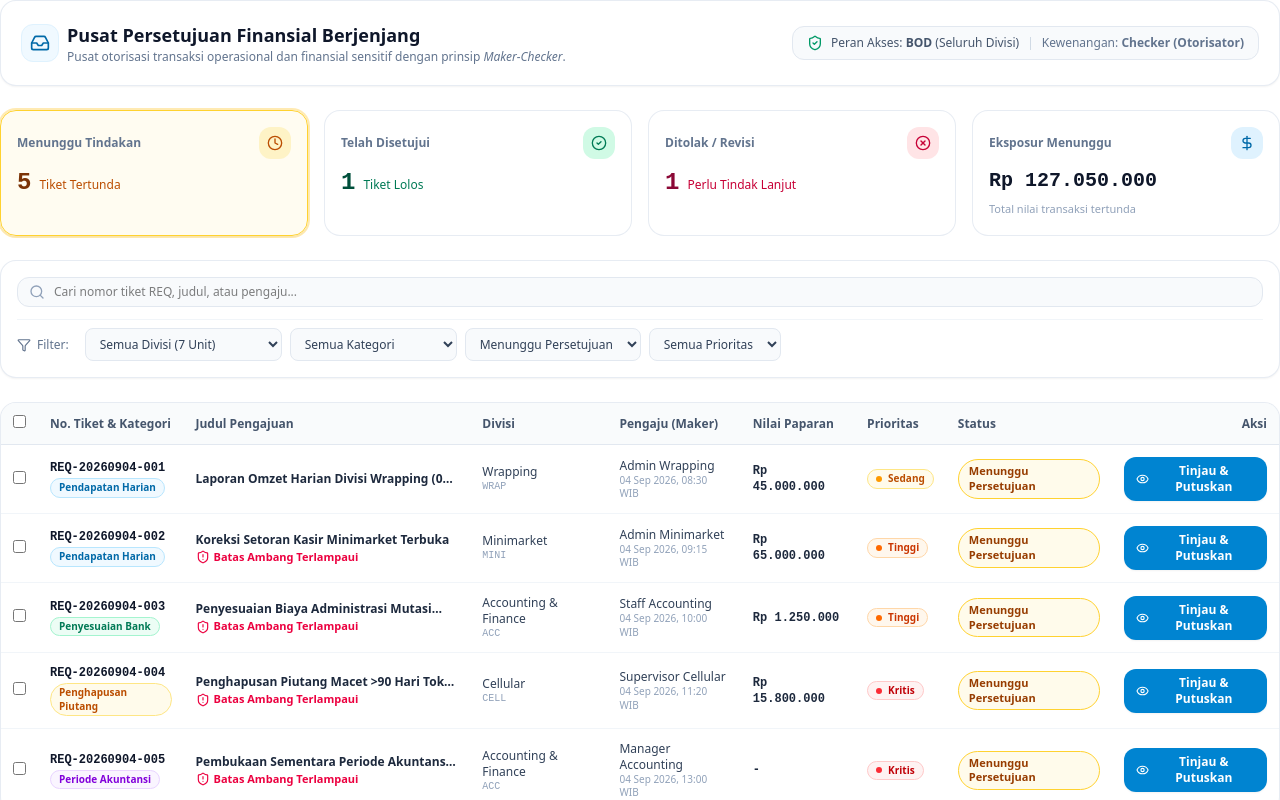
Test case: Fase 8: Pusat Persetujuan Finansial Berjenjang (ISSUE-26) › ApprovalInboxCentral Component › performs batch approval on selected requests
Note: Select first row checkbox
Click the checkbox named "Pilih tiket REQ-20260904-001".
click(20, 477)  # box [13,470,26,484]
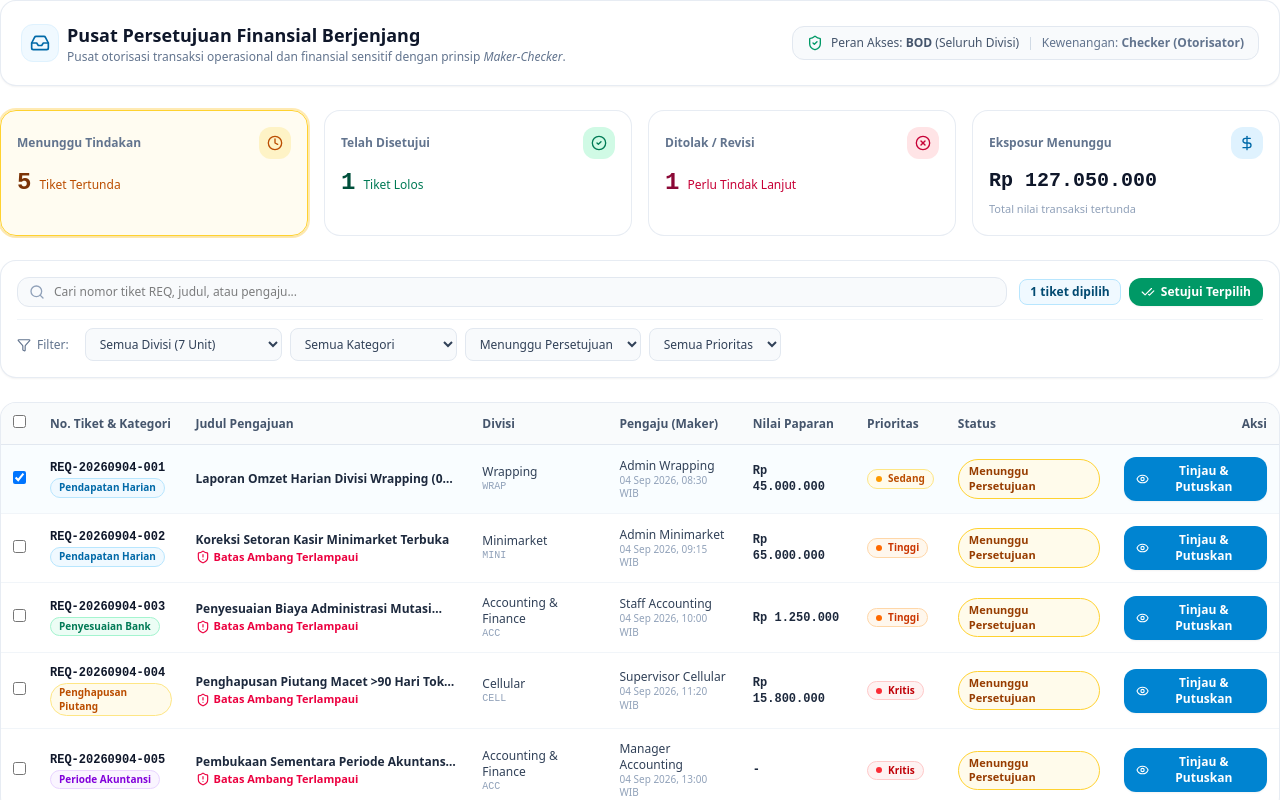
Now the button with test id "btn-batch-approve" is shown
Now the text "1 tiket dipilih" is shown, box [1019,279,1121,305]
Click the button with test id "btn-batch-approve".
click(1196, 292)  # box [1129,278,1263,306]
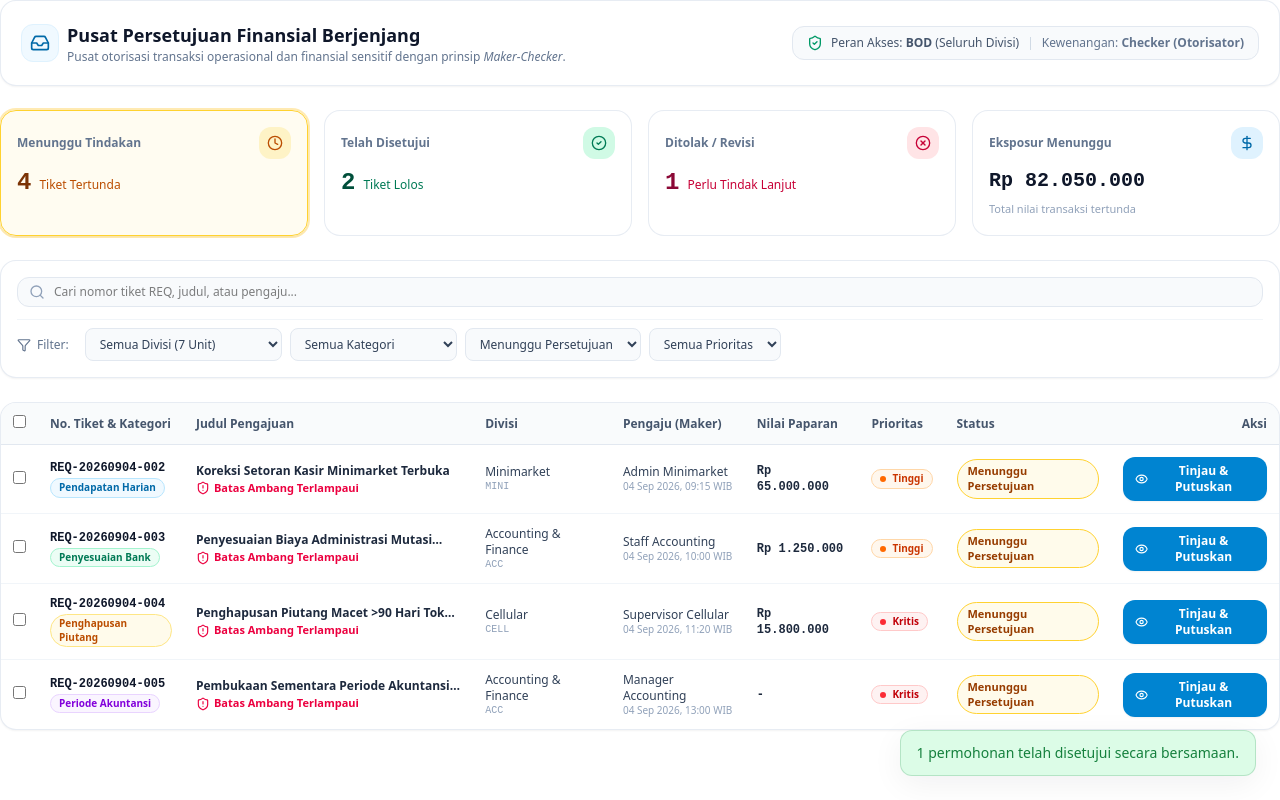
Now the button with test id "btn-batch-approve" is gone
